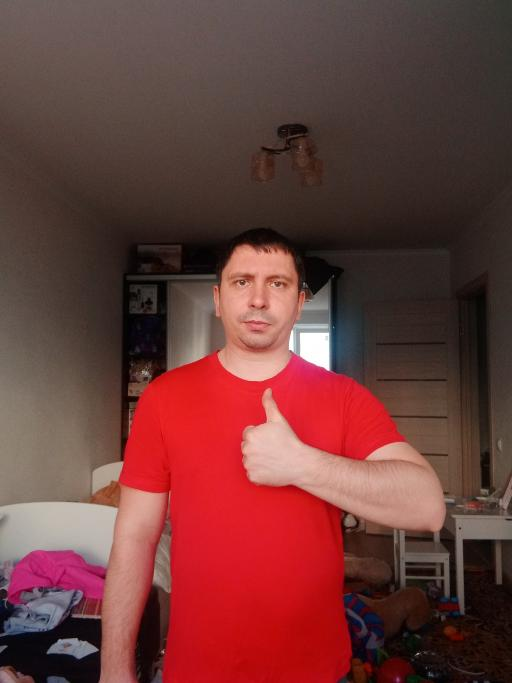like: (237, 386, 303, 489)
